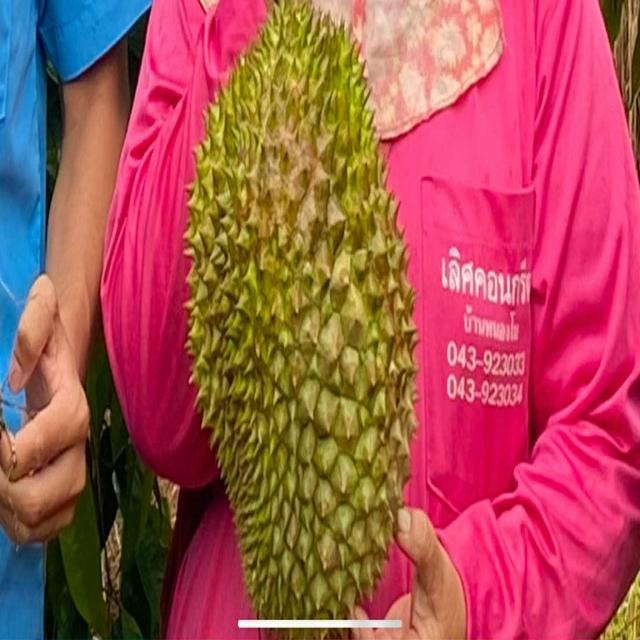RIPE: (180, 6, 416, 616)
